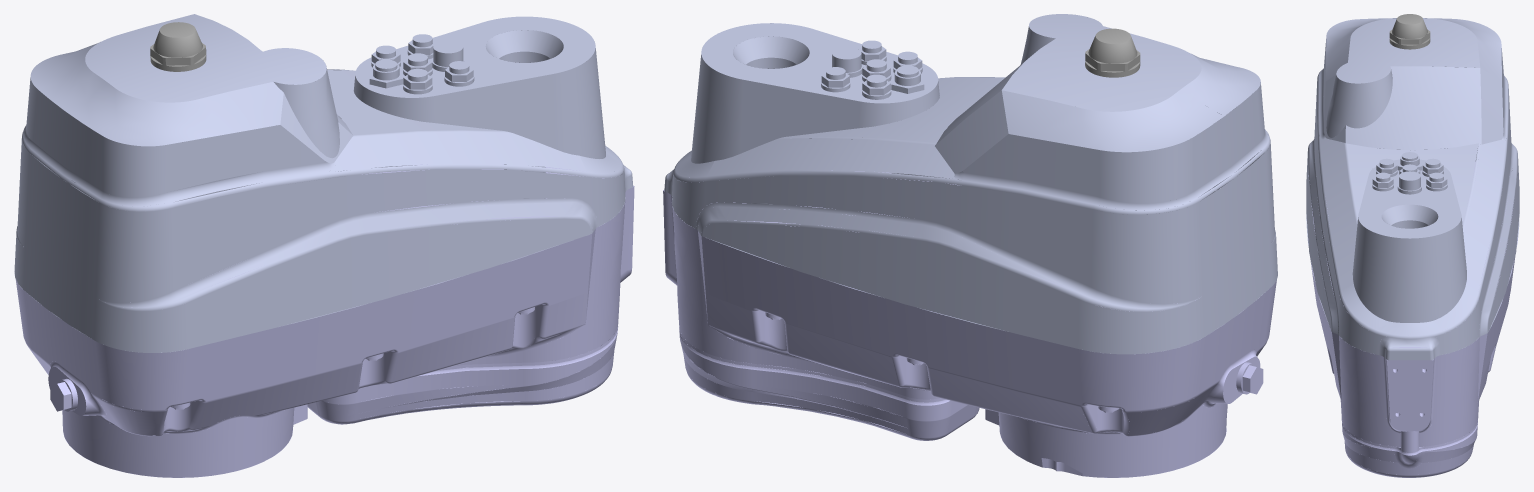
3 views of the same model, side by side, from view 1: azimuth 30°, elevation 25°; view 2: azimuth 150°, elevation 25°; view 3: azimuth 270°, elevation 25° (orthographic). The views are drawn at different scales.
Parts seen in each view (by area): view 1: L2.IGS (×56); view 2: L2.IGS (×52); view 3: L2.IGS (×53).
Boxes of the visible parts, x1,y1,x2,y2 form: L2.IGS (×56): (17, 14, 625, 477); L2.IGS (×52): (672, 14, 1271, 477); L2.IGS (×53): (1306, 18, 1519, 477).
Size of the model in its own units: 0.3973 by 0.2912 by 0.1752.
